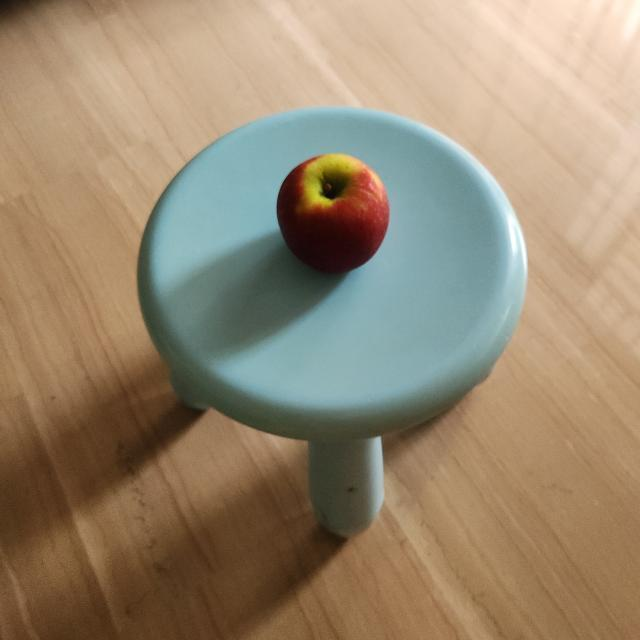apple: (272, 146, 392, 280)
